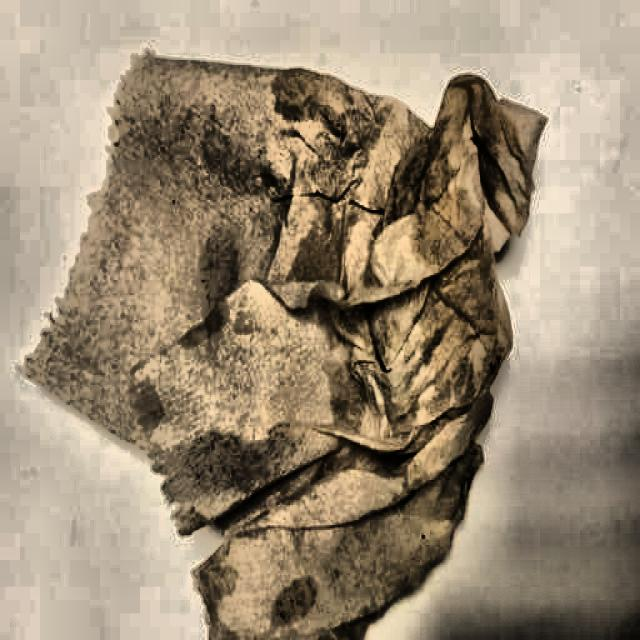trash: (107, 55, 508, 615)
